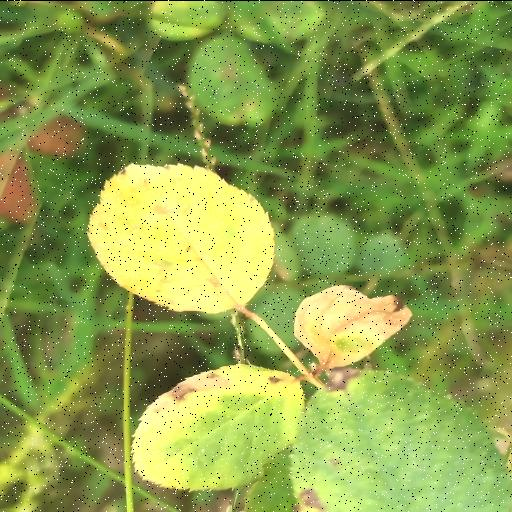healthy_leaf: (291, 370, 512, 512)
thrip: (88, 164, 274, 312), (132, 364, 304, 490), (294, 284, 412, 368)
